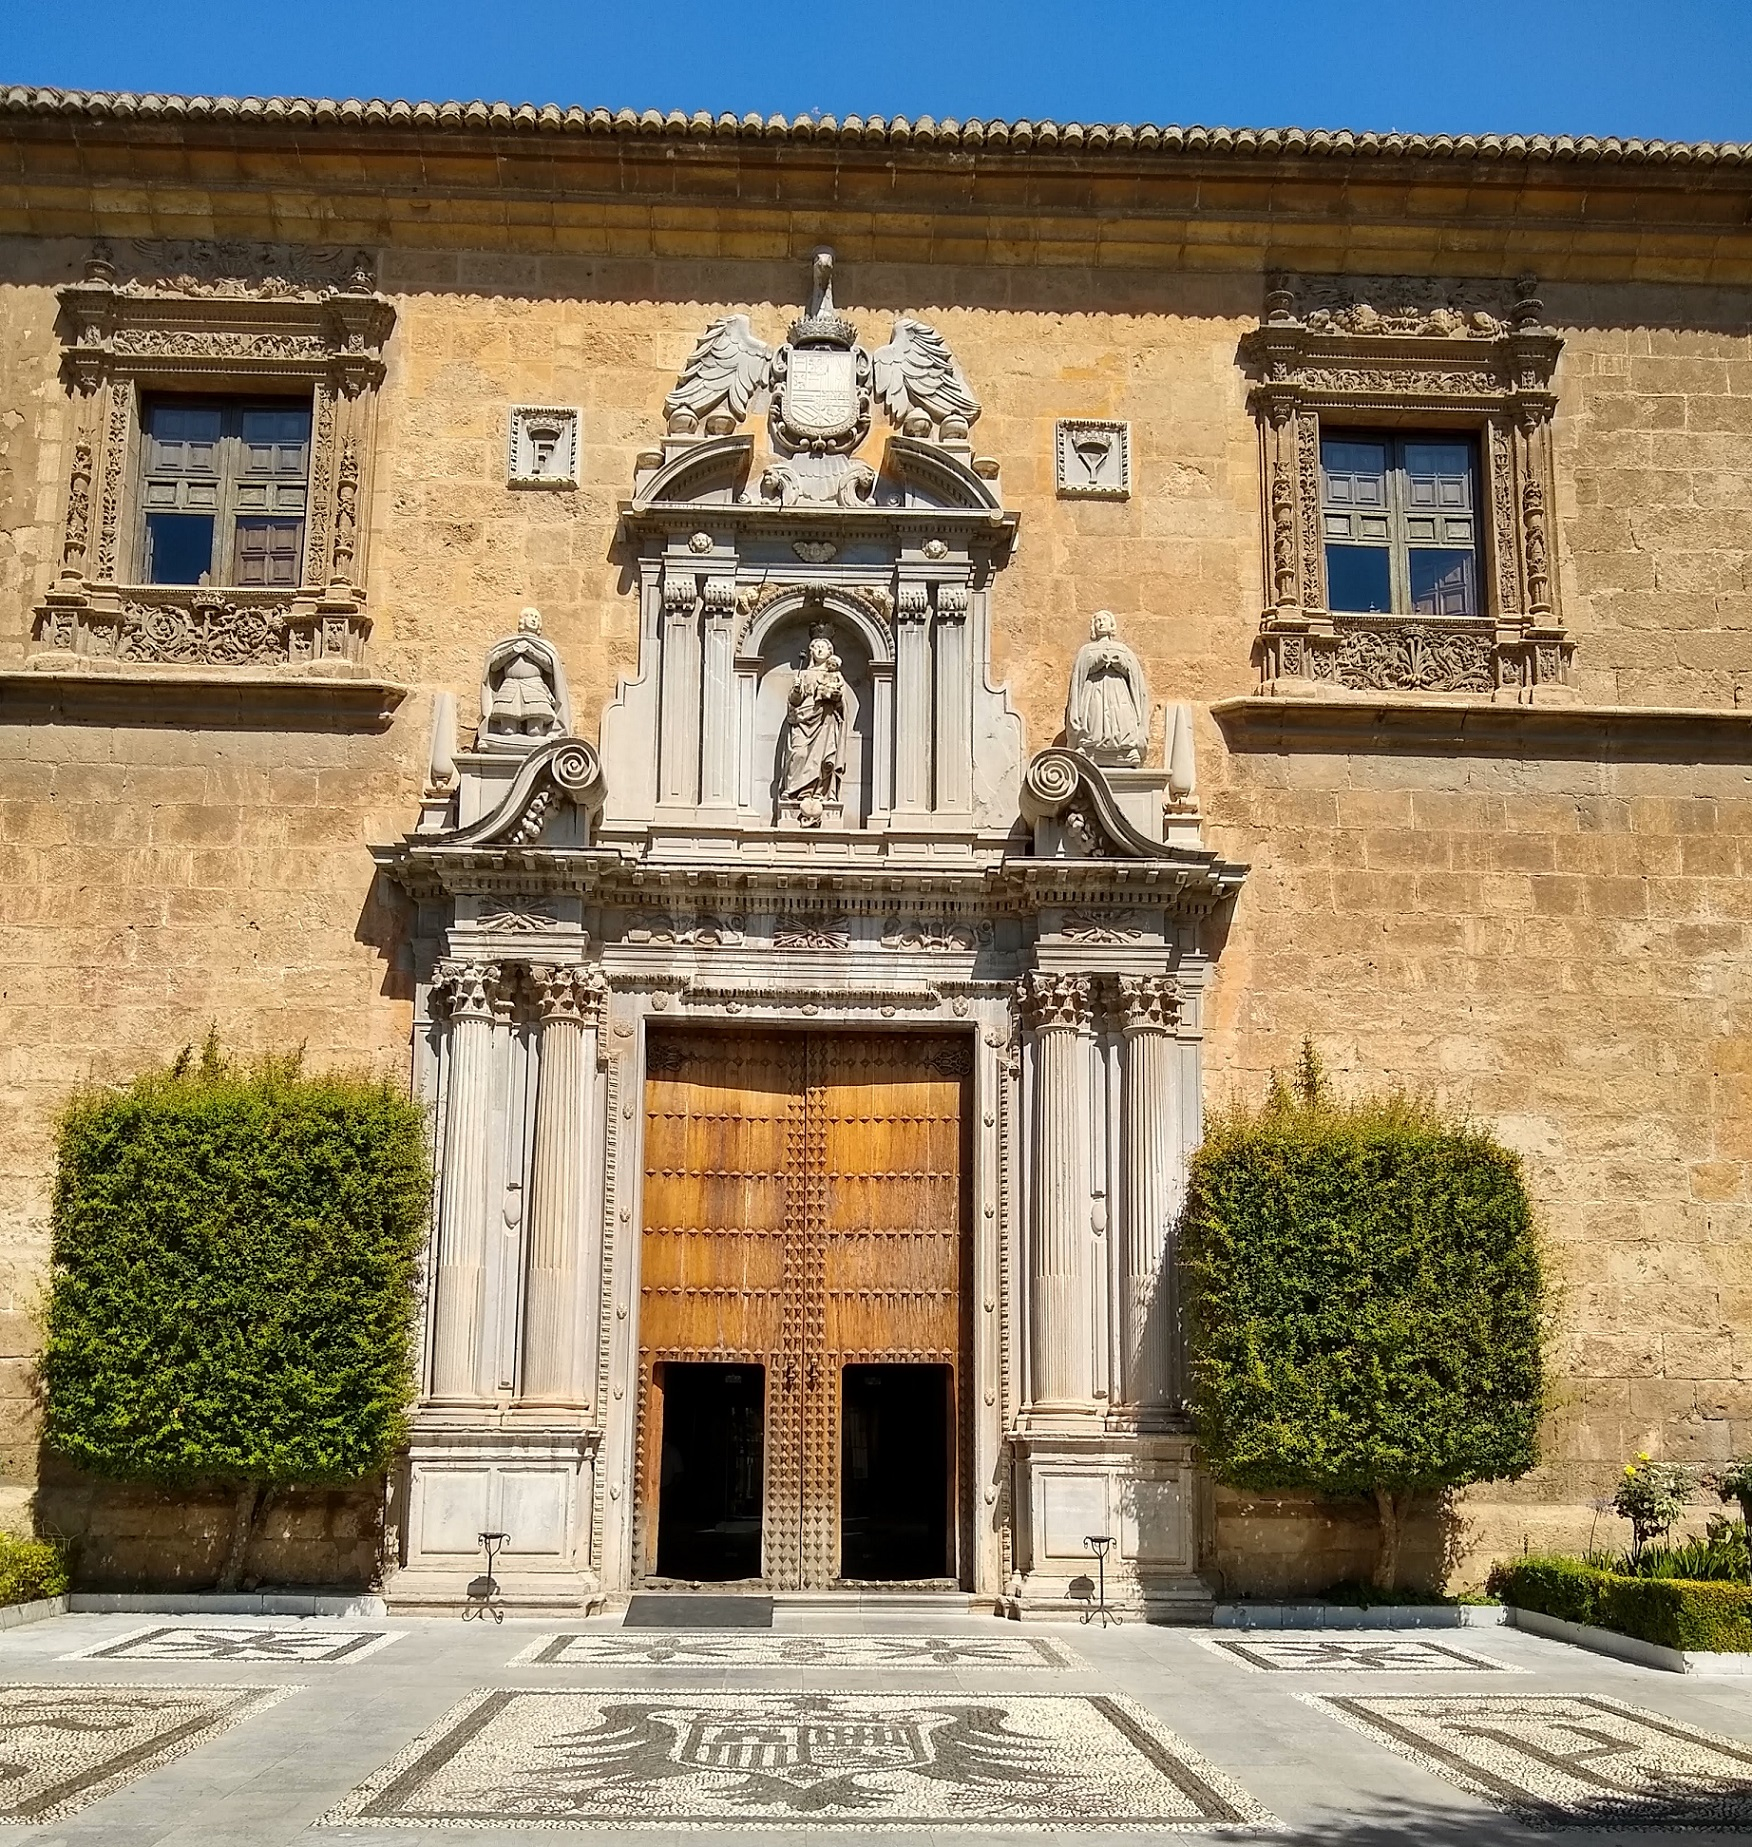fronton-partido: (367, 733, 1214, 900), (626, 431, 1008, 537)
vano-adintelado: (604, 966, 988, 1613), (1233, 379, 1597, 640), (49, 336, 379, 601)
